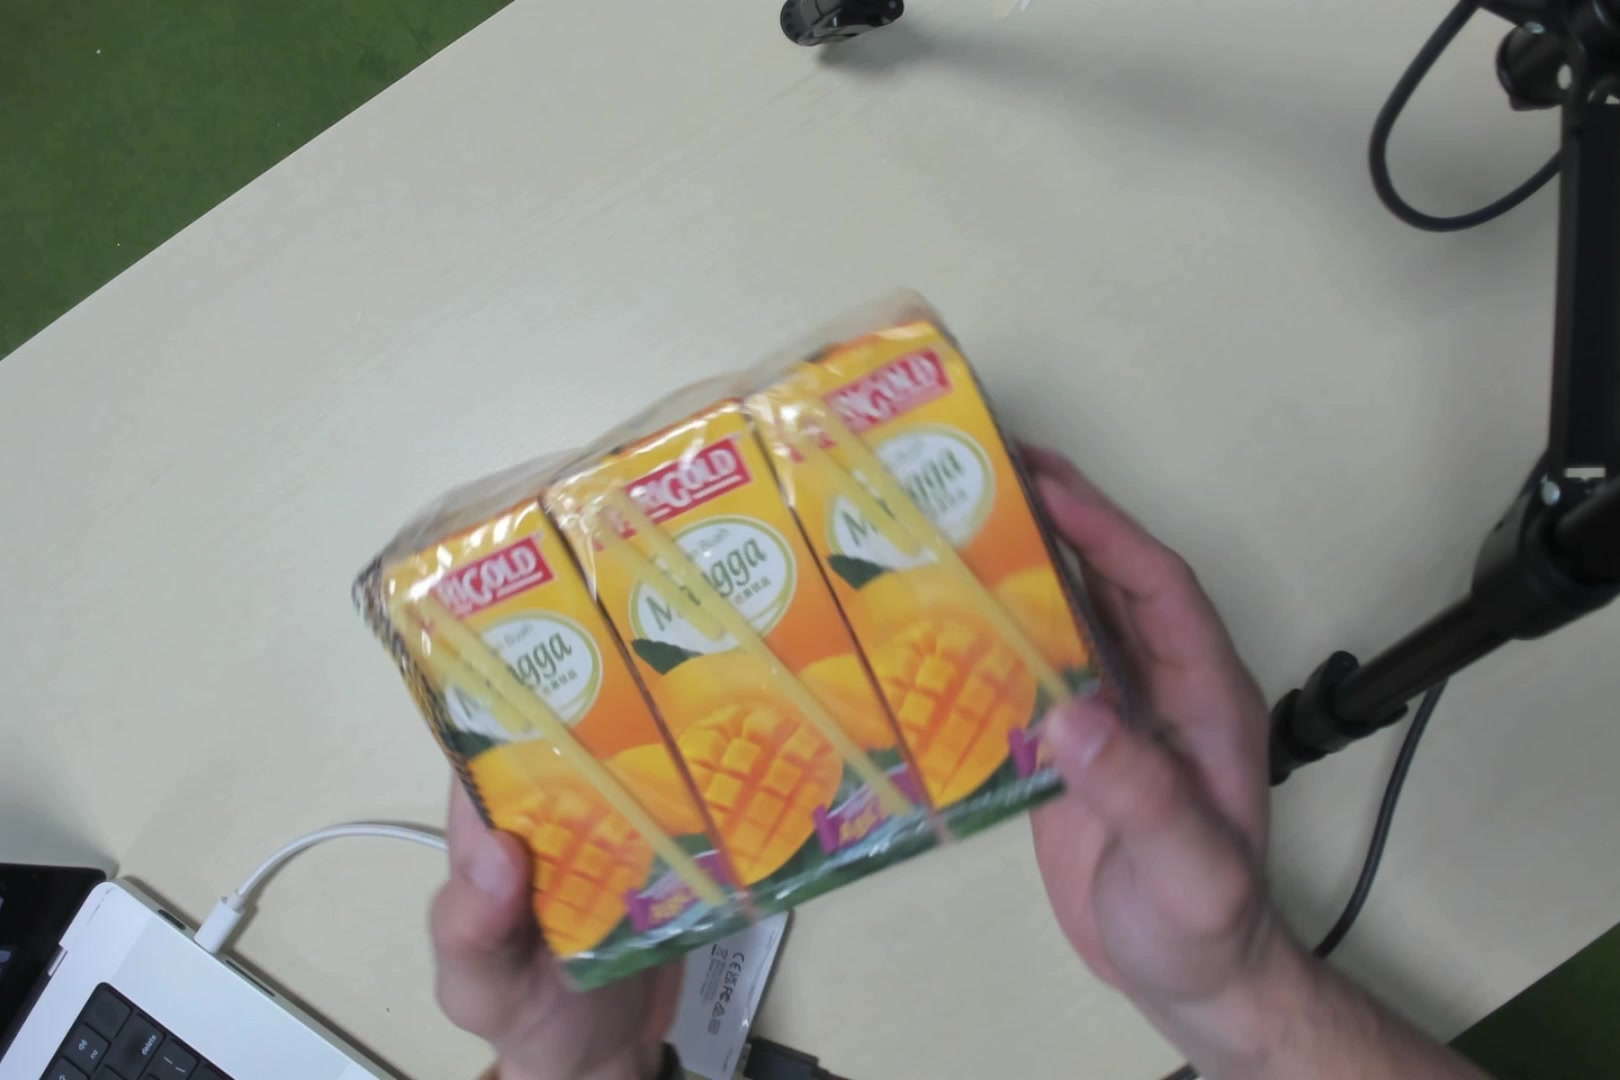FruitJuice_700-799g_Halal_NonHealthy: (432, 295, 1100, 908)
